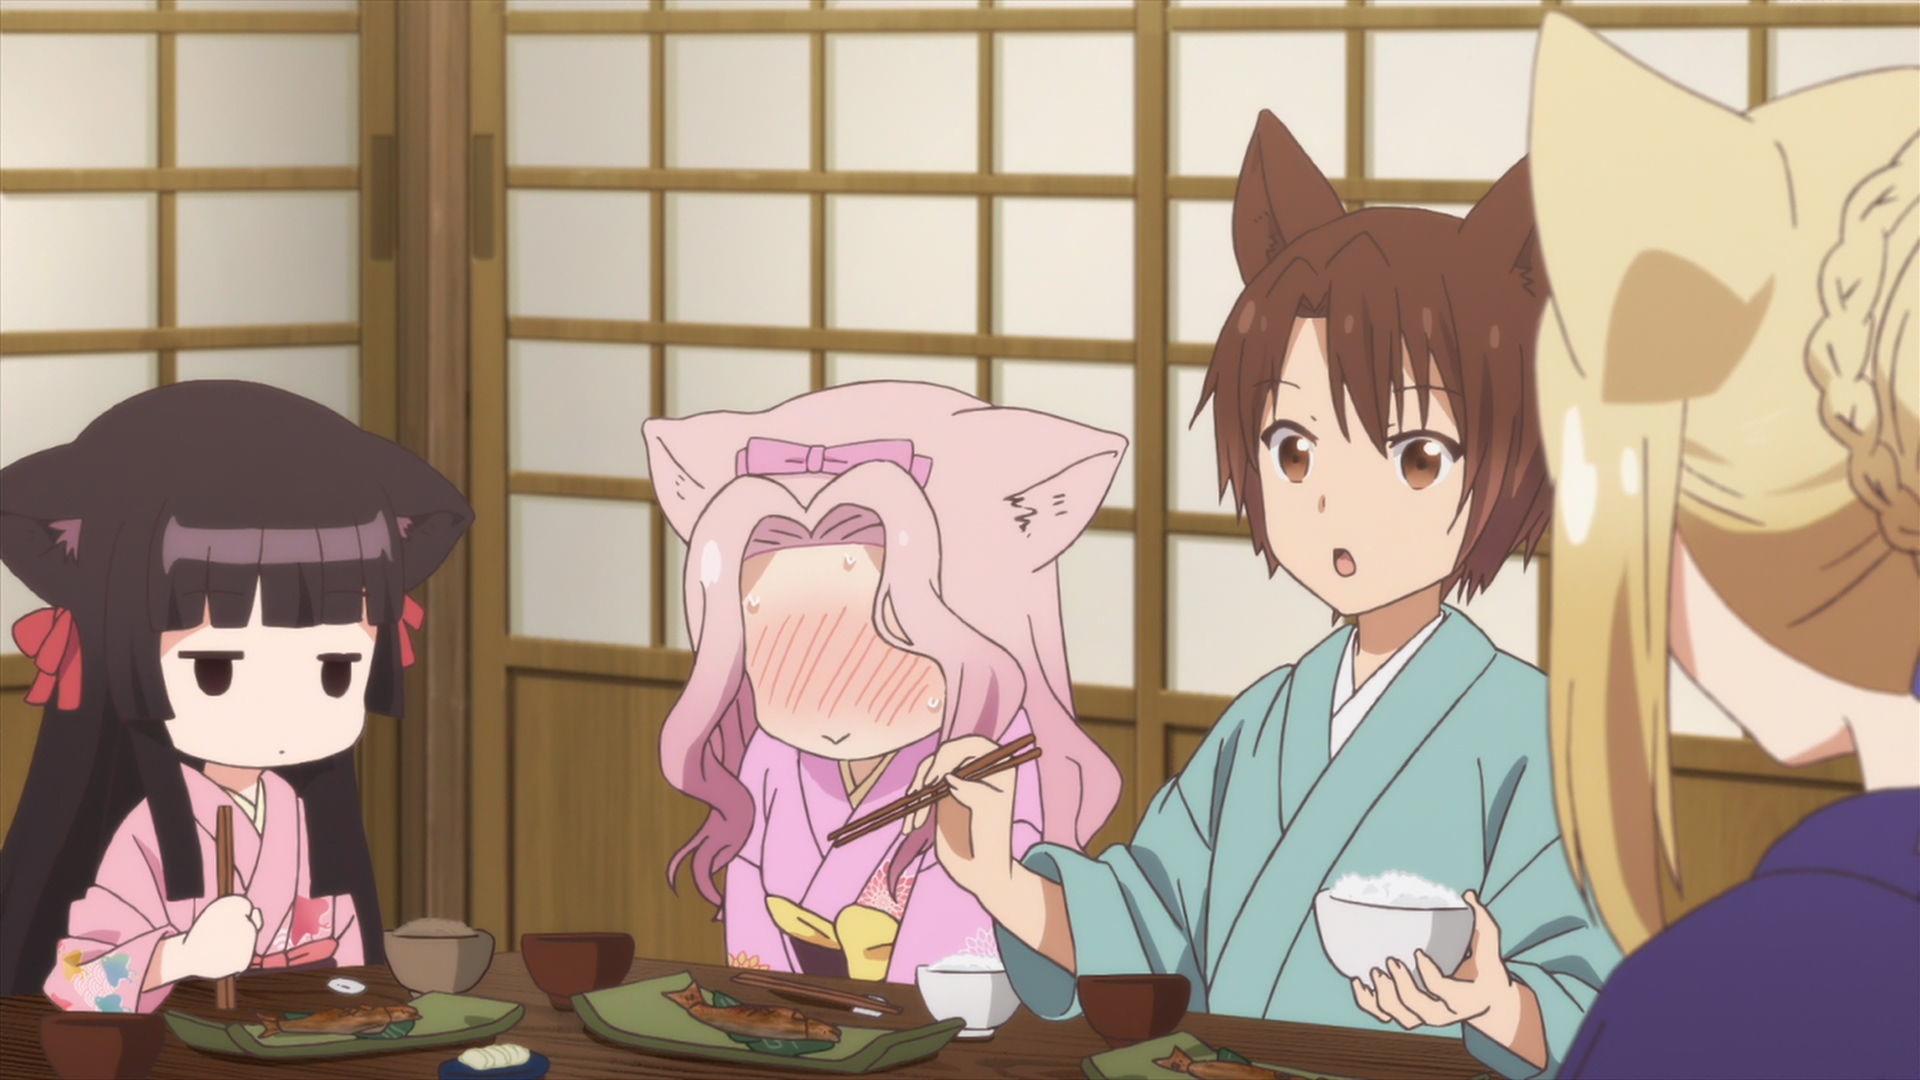枣: (902, 109, 1619, 1080)
桐: (1532, 1, 1920, 1080)
樱: (1, 380, 477, 1011)
莲: (640, 378, 1130, 982)
